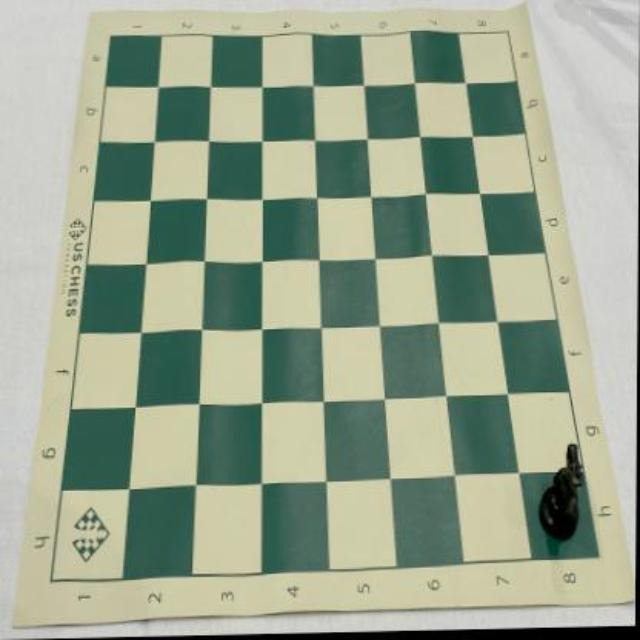black-knight: (539, 446, 583, 544)
